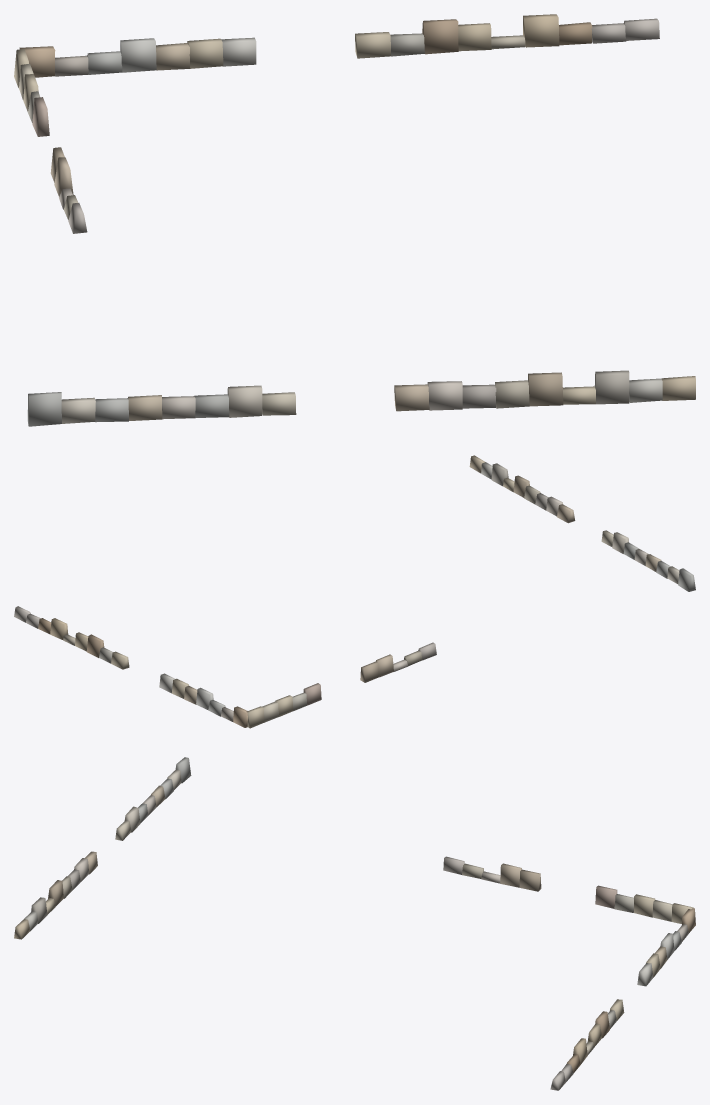
The model's file is farm_-28_-26_far.glb.
3 renders of one model, top to bottom at view 1: azimuth 30°, elevation 25°; view 2: azimuth 150°, elevation 25°; view 3: azimuth 270°, elevation 25°, orthographic. The views are drawn at different scales.
Parts seen in each view (by area): view 1: geometry_0; view 2: geometry_0; view 3: geometry_0.
Part boxes in pixels (x1,y1,x2,y2): geometry_0: (14,14,695,426); geometry_0: (14,455,695,728); geometry_0: (14,757,695,1090).
Size of the model in its own units: 50.3 by 4.33 by 51.22.
